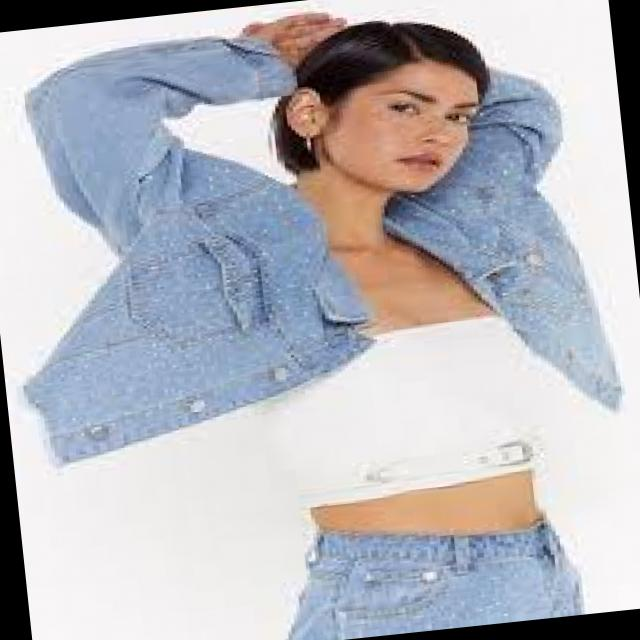Jacket: (12, 0, 610, 580)
